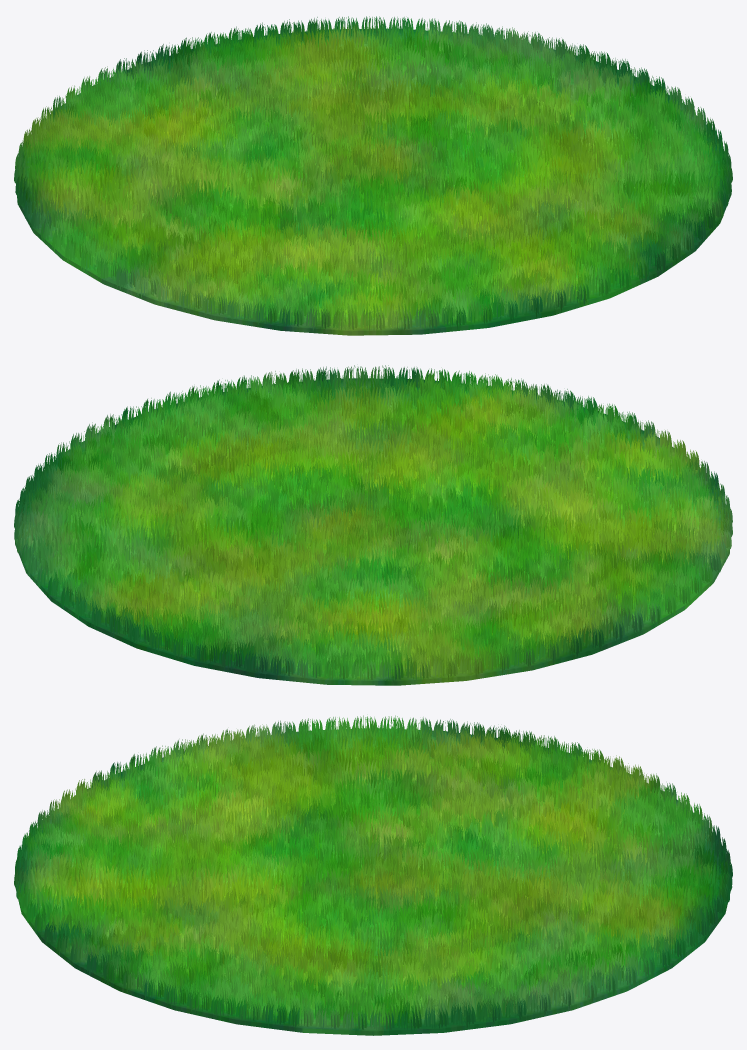
File: grass.glb
3 views of the same model, one above another, from view 1: azimuth 30°, elevation 25°; view 2: azimuth 150°, elevation 25°; view 3: azimuth 270°, elevation 25° (orthographic).
Visible parts, largest first — view 1: Cubo.129_N00_000_Hair_00_HAIR (Instance)_0.003, object 2; view 2: Cubo.129_N00_000_Hair_00_HAIR (Instance)_0.003, object 2; view 3: Cubo.129_N00_000_Hair_00_HAIR (Instance)_0.003, object 2.
Part boxes in pixels (left/top/right/bottom): Cubo.129_N00_000_Hair_00_HAIR (Instance)_0.003: left=14, top=16, right=732, bottom=332; object 2: left=17, top=28, right=731, bottom=335; Cubo.129_N00_000_Hair_00_HAIR (Instance)_0.003: left=14, top=365, right=732, bottom=683; object 2: left=15, top=378, right=730, bottom=685; Cubo.129_N00_000_Hair_00_HAIR (Instance)_0.003: left=14, top=715, right=732, bottom=1033; object 2: left=15, top=728, right=732, bottom=1035.
Size of the model in its own units: 254 by 7.53 by 254.
Materials: 1 (1 with a texture image).
